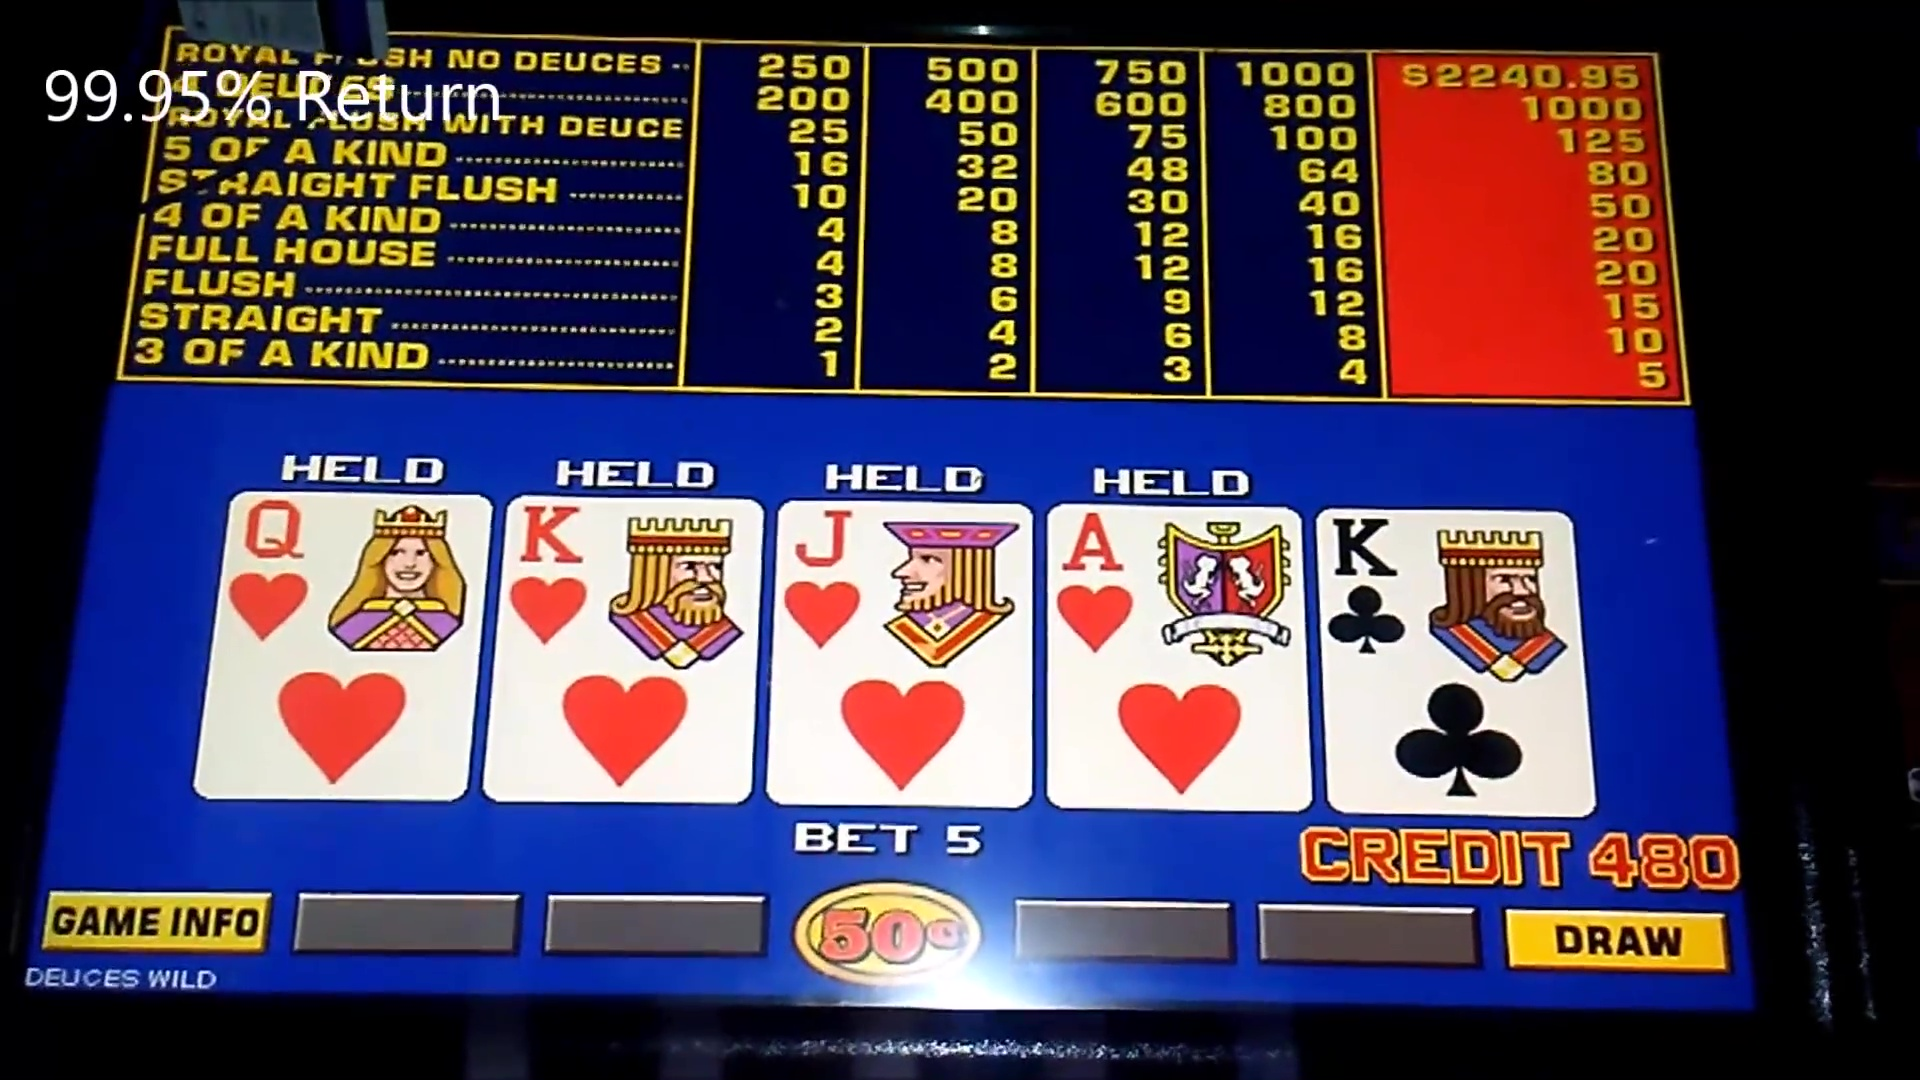AH: (1050, 502, 1305, 670)
JH: (781, 502, 1023, 665)
KC: (1323, 516, 1571, 671)
KH: (512, 498, 748, 661)
QH: (225, 491, 476, 651)
